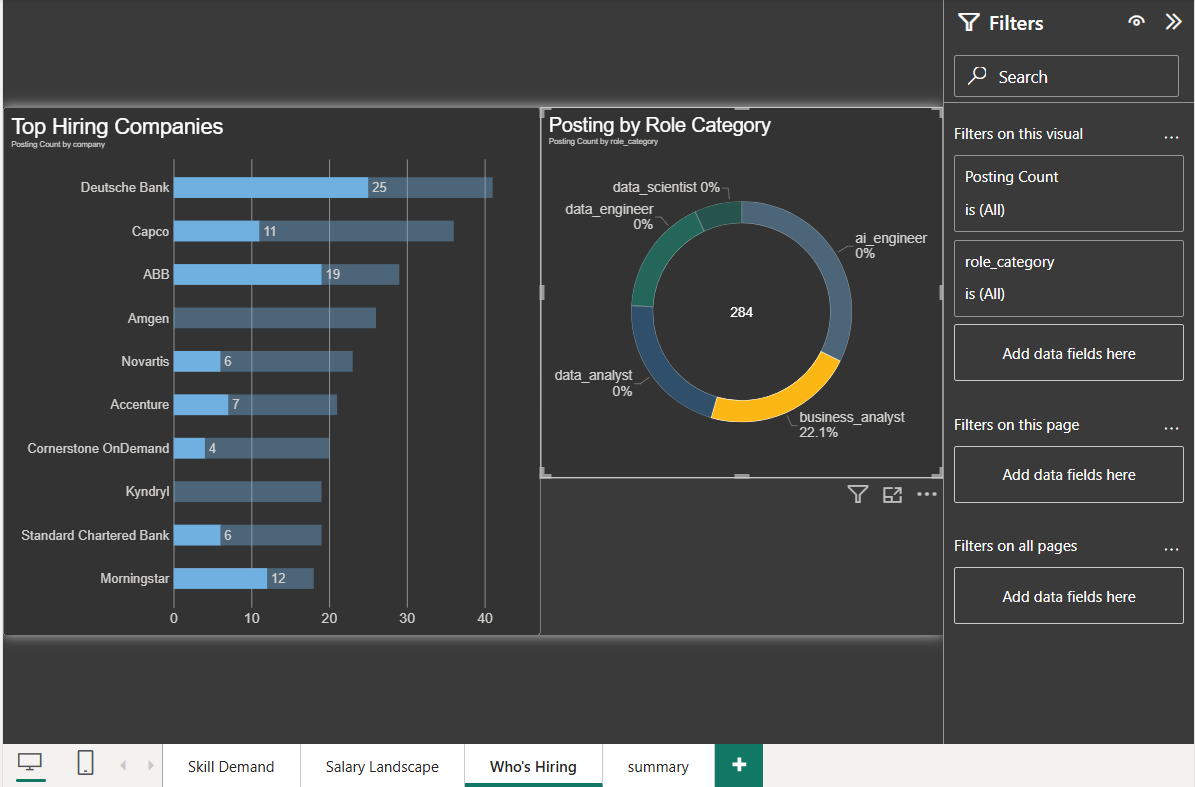

Layout of this report page (visuals, bound fields, positions):
{"tool":"powerbi","page":{"name":"Who's Hiring","canvas":[1920,1080],"ordinal":2},"visuals":[{"type":"clusteredBarChart","title":"Top Hiring Companies","fields":{"Category":["postings_salary.company"],"Y":["postings_salary.Posting Count"]},"box":[0,0,1097.9,1080],"z":0},{"type":"donutChart","title":"Posting by Role Category","fields":{"Category":["postings_salary.role_category"],"Y":["postings_salary.Posting Count"]},"box":[1097.9,0,822.1,758.3],"z":1}]}

Visuals, with their boxes on the page's 1920x1080 design canvas (x1, y1, x2, y2). These are canvas units, not pixel positions in the 1195x787 screenshot, which may show the page scaled, cropped or inside an application window:
"Top Hiring Companies" clusteredBarChart: left=0, top=0, right=1098, bottom=1080
"Posting by Role Category" donutChart: left=1098, top=0, right=1920, bottom=758
